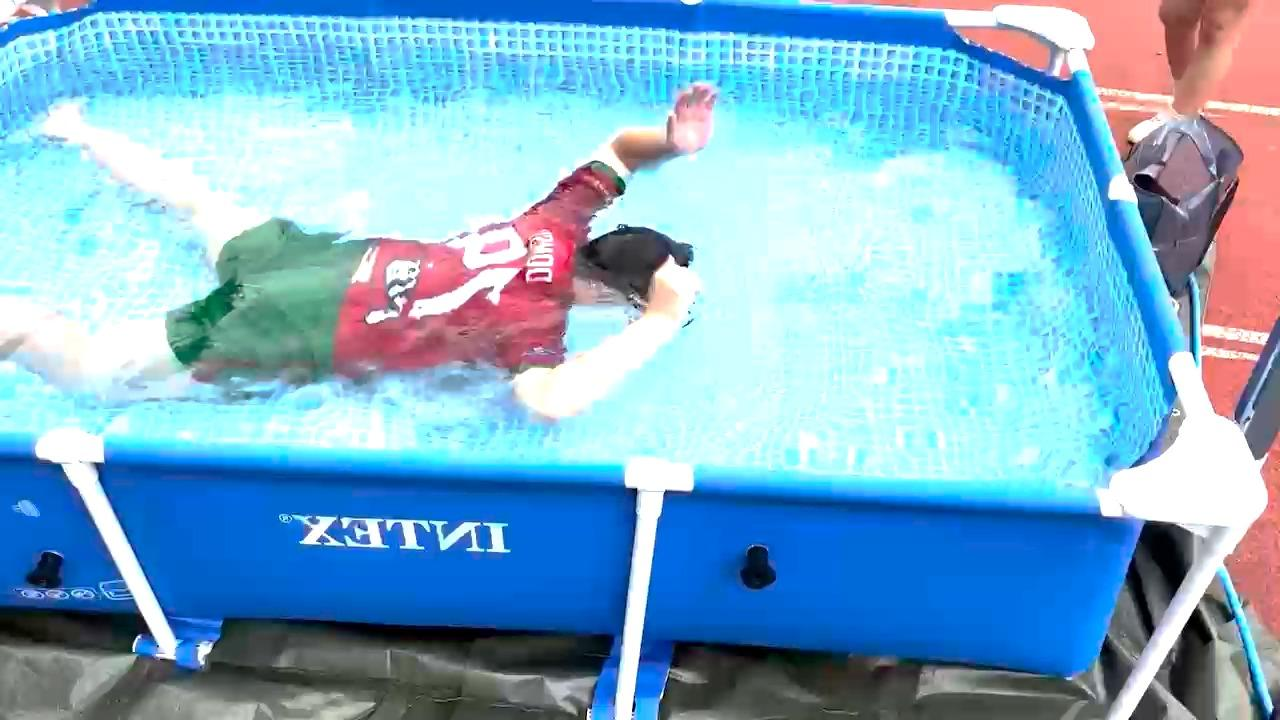Drowning: (0, 49, 754, 435)
